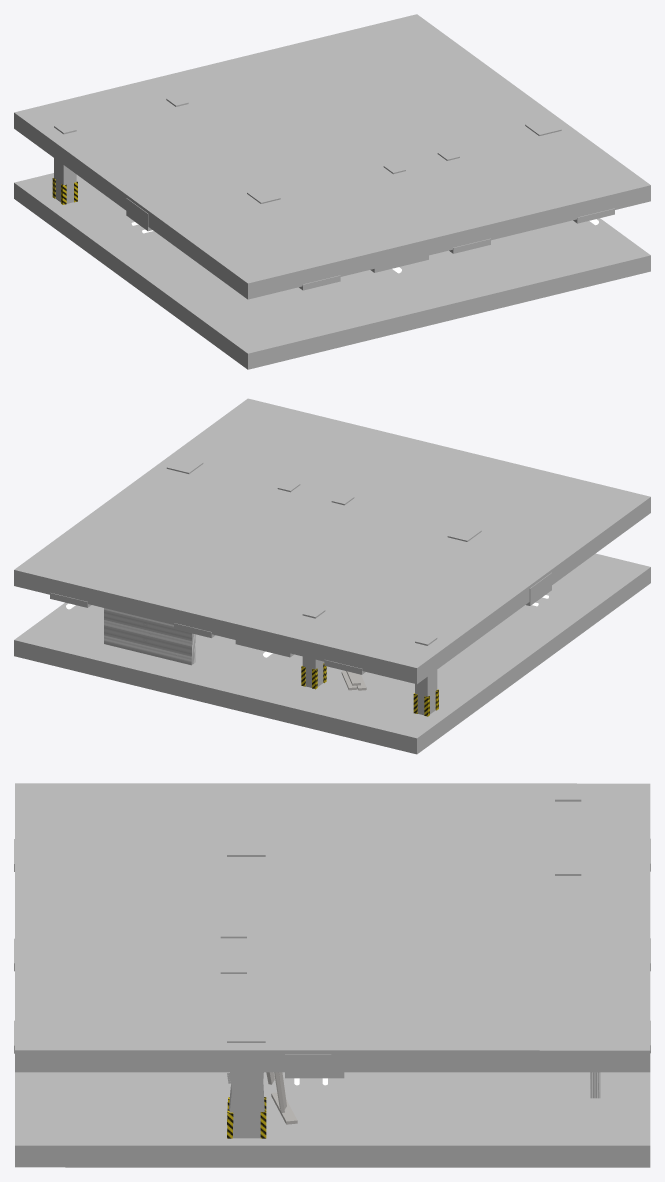
The model's file is Level1Refernce.fbx.
The picture shows the model from 3 angles, top to bottom: view 1: azimuth 30°, elevation 25°; view 2: azimuth 150°, elevation 25°; view 3: azimuth 270°, elevation 25°; orthographic projection. The views are drawn at different scales.
Visible parts, largest first — view 1: Floor (4), Floor (3), Support, Pillar4.001; view 2: Floor (4), Floor (3), WallMetal, Support, Pillar4.001, Pillar4.003; view 3: Floor (4), Floor (3), Pillar0.004 (1), Support, Pillar0.004.
Boxes of the visible parts, x1=… form: Floor (4): x1=14, y1=14, x2=650, y2=299; Floor (3): x1=14, y1=173, x2=650, y2=369; Support: x1=126, y1=198, x2=614, y2=290; Pillar4.001: x1=54, y1=123, x2=76, y2=203; Floor (4): x1=14, y1=398, x2=650, y2=684; Floor (3): x1=14, y1=553, x2=650, y2=754; WallMetal: x1=104, y1=608, x2=195, y2=665; Support: x1=50, y1=572, x2=551, y2=674; Pillar4.001: x1=415, y1=634, x2=437, y2=715; Pillar4.003: x1=302, y1=607, x2=325, y2=687; Floor (4): x1=15, y1=783, x2=650, y2=1072; Floor (3): x1=15, y1=1072, x2=650, y2=1167; Pillar0.004 (1): x1=227, y1=1026, x2=265, y2=1138; Support: x1=14, y1=838, x2=650, y2=1078; Pillar0.004: x1=227, y1=842, x2=265, y2=856.
Bounding box in the file's own units: 10982 × 2277 × 11030.
